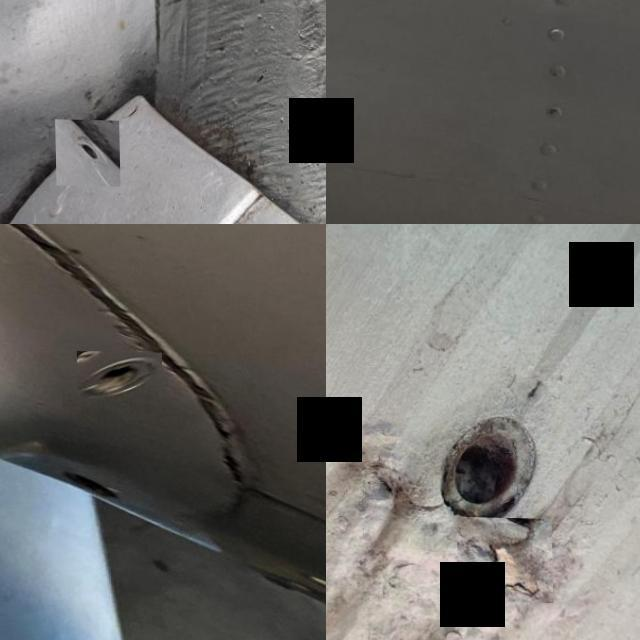Crack: (0, 224, 326, 517), (454, 516, 552, 602)
Missing_Fastener: (76, 350, 162, 407), (52, 120, 118, 187)
